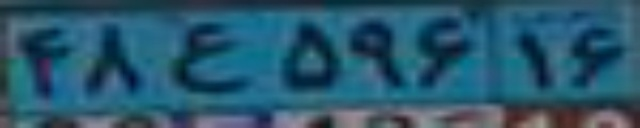1: (515, 31, 553, 87)
4: (15, 27, 73, 100)
5: (276, 22, 340, 88)
6: (412, 18, 471, 88), (569, 26, 624, 88)
8: (83, 22, 143, 94)
9: (346, 21, 403, 87)
ain: (165, 22, 252, 93)
